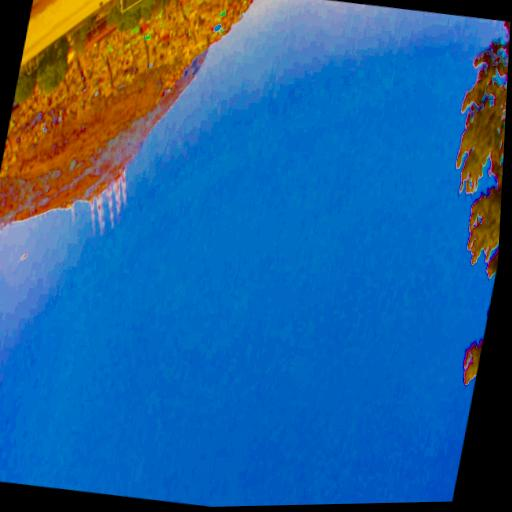drones: (20, 251, 30, 263)
